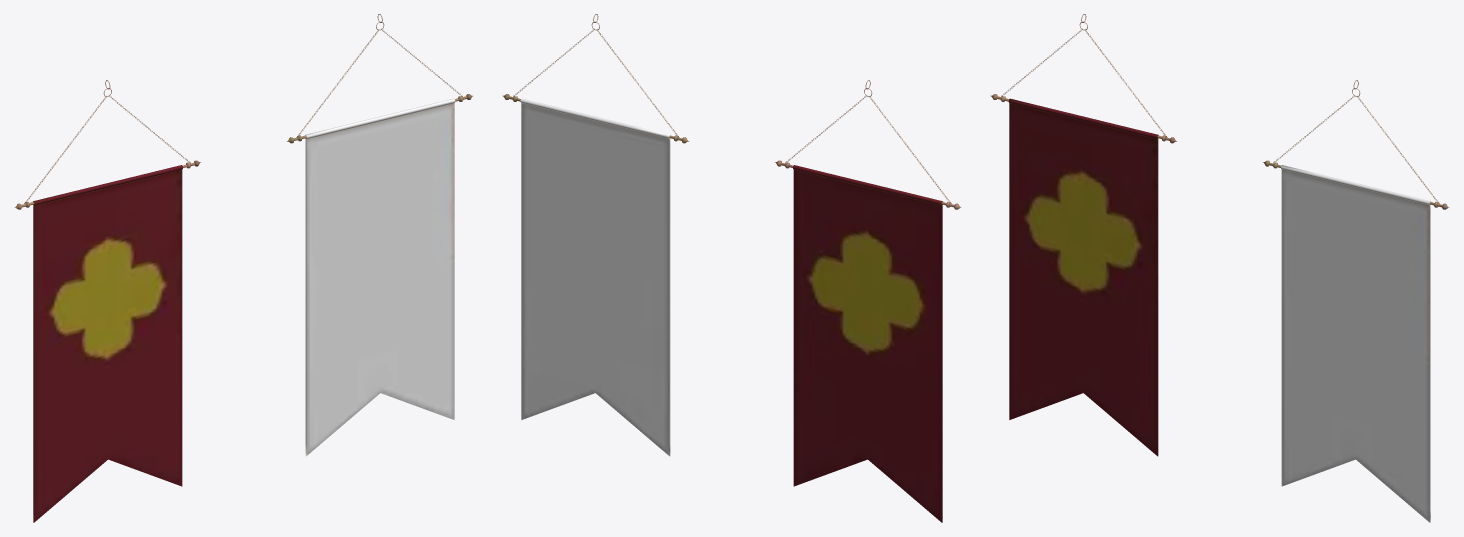
File: hangbanner.glb
The picture shows the model from 3 angles, left to right: view 1: azimuth 30°, elevation 25°; view 2: azimuth 150°, elevation 25°; view 3: azimuth 330°, elevation 25°; orthographic projection.
Visible parts, largest first — view 1: Object_6, Object_4; view 2: Object_6, Object_4; view 3: Object_4, Object_6.
Part boxes in pixels (x1=…): Object_6: x1=287, y1=14, x2=473, y2=456; Object_4: x1=14, y1=80, x2=200, y2=522; Object_6: x1=502, y1=14, x2=688, y2=456; Object_4: x1=775, y1=80, x2=961, y2=522; Object_4: x1=990, y1=14, x2=1176, y2=456; Object_6: x1=1263, y1=80, x2=1449, y2=522.
Bounding box in the file's own units: 7.42 × 6.55 × 0.1383.
2 materials, 2 textured.
